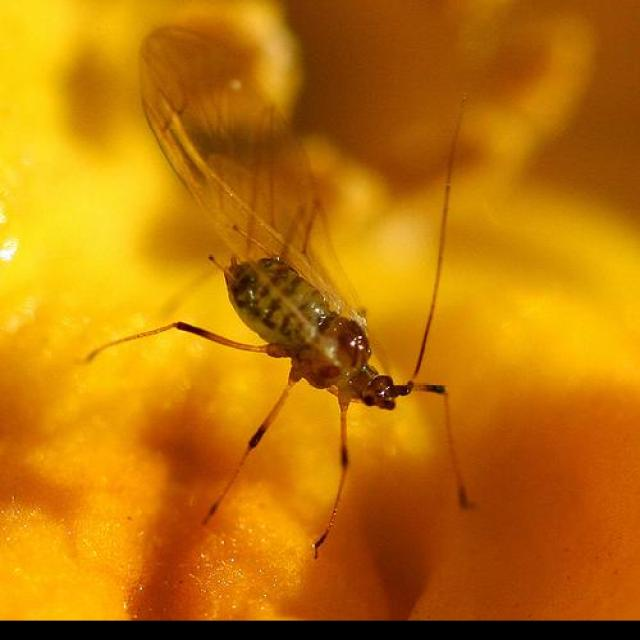Aphids: (125, 77, 482, 521)
